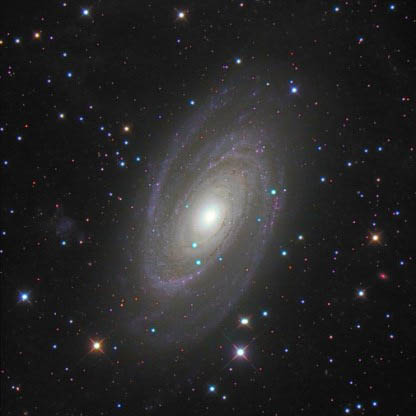Messier 81: (107, 56, 313, 380)
